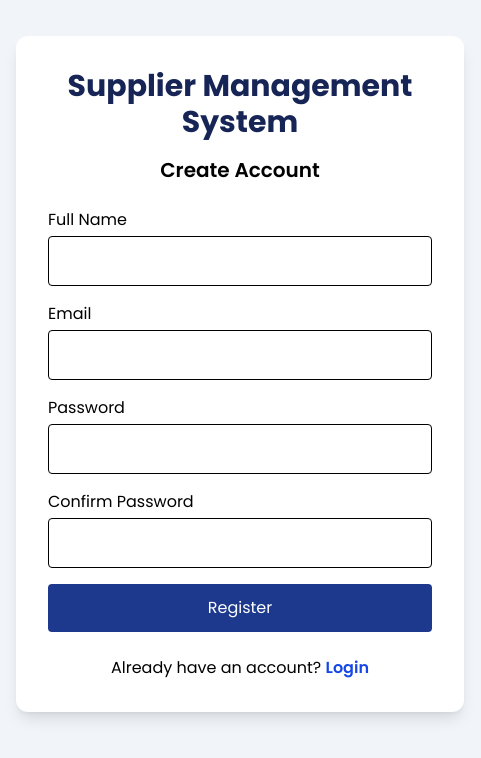
Test case: Register Page › rejects mismatched passwords
The width and height of the screenshot is (481, 758).
Type "John Doe" into the field labelled "Full Name" at [240, 261], box [48,236,432,286]
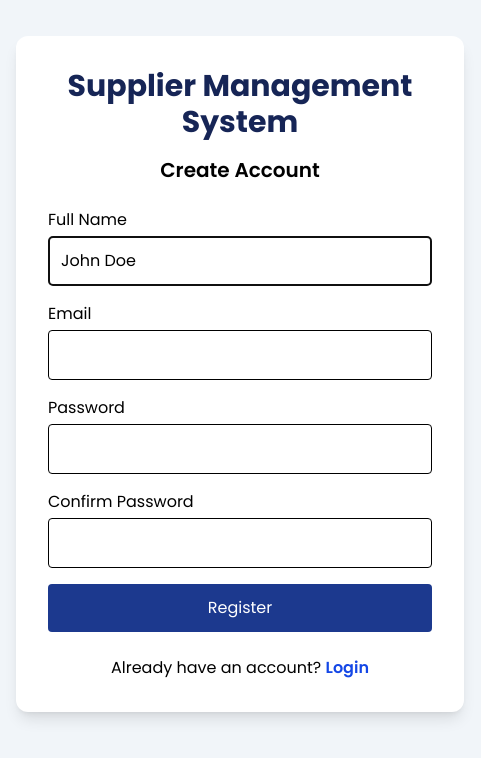
Type "john@example.com" into the field labelled "Email" at [240, 355], box [48,330,432,380]
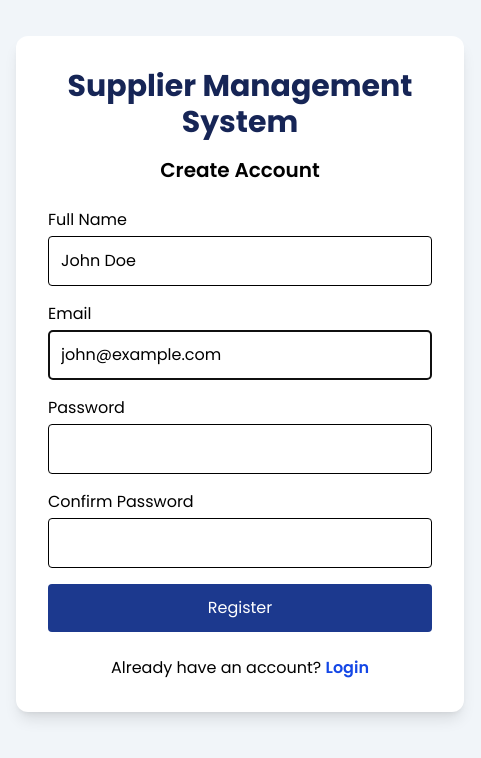
Type "password123" into the password field labelled "Password" at [240, 449], box [48,424,432,474]
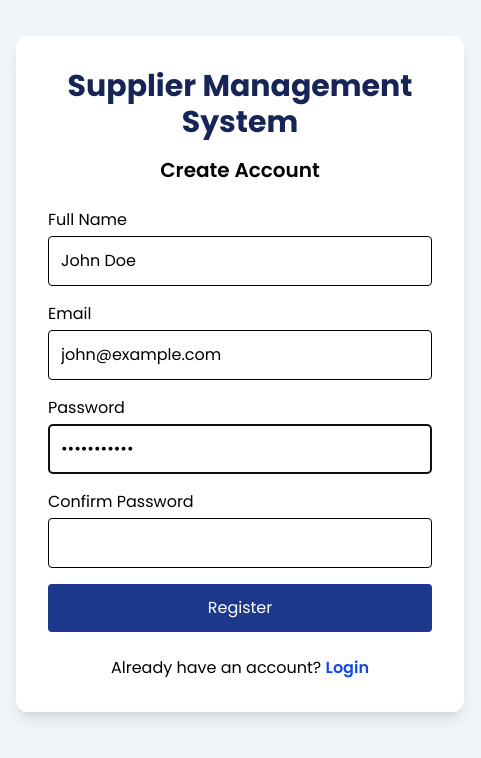
Type "different123" into the password field labelled "Confirm Password" at [240, 543], box [48,518,432,568]
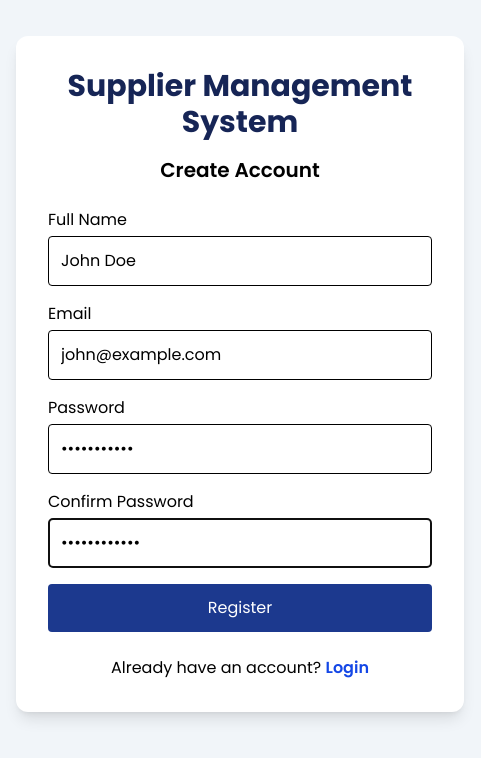
Click the button "Register" at [240, 608], box [48,584,432,632]
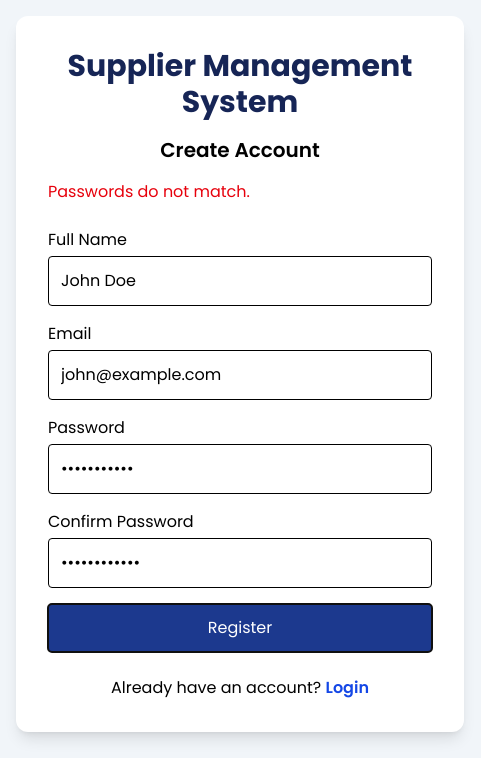
Result: the message reads "Passwords do not match." at [48,180,250,203]
